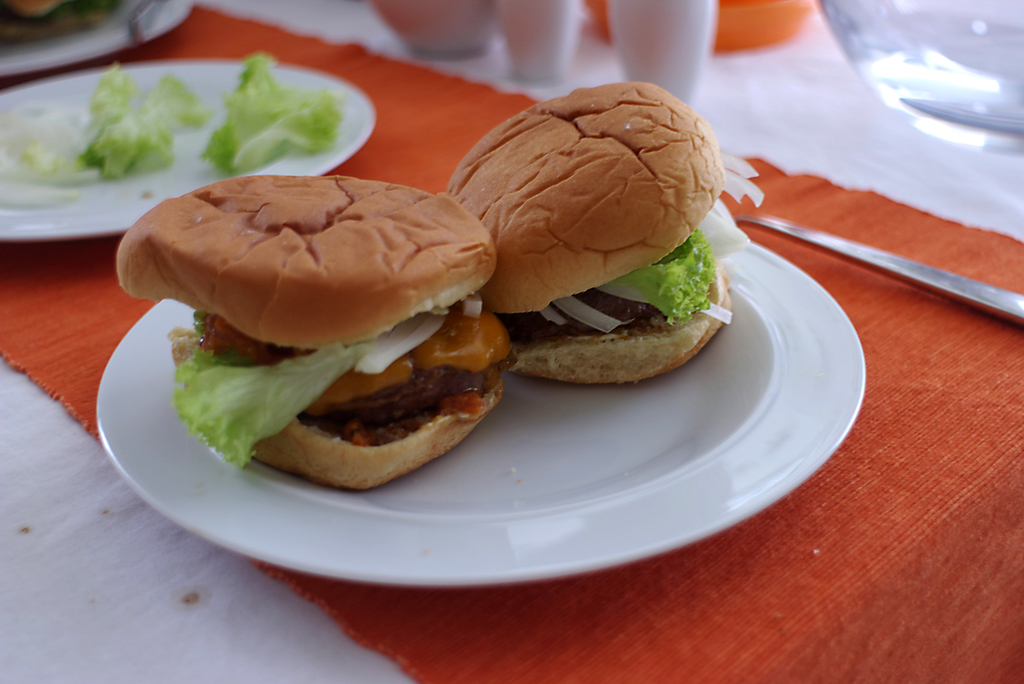Hamburger: (117, 174, 515, 495), (448, 82, 766, 381)
